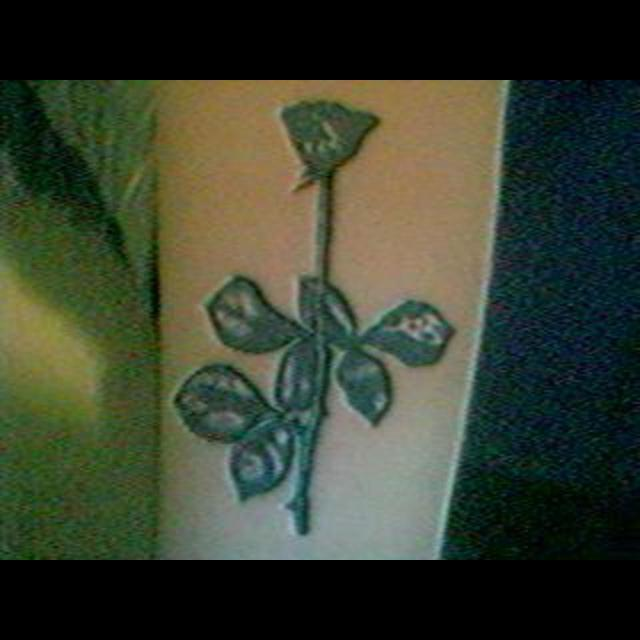Flower: (282, 102, 376, 176)
